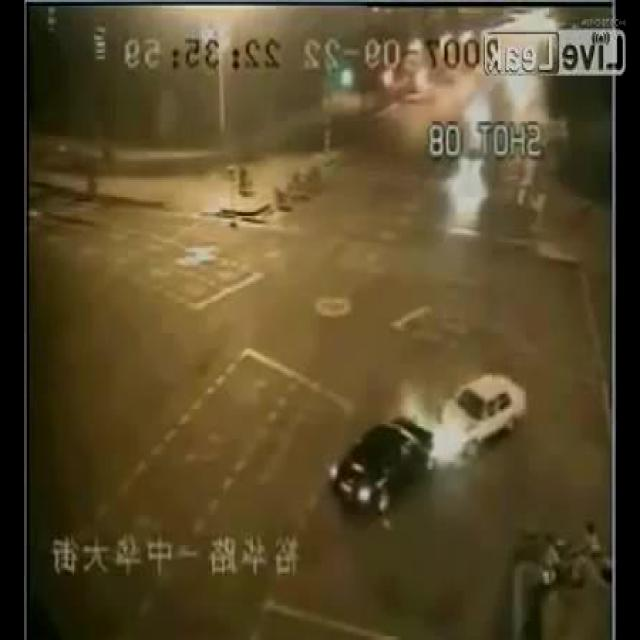accident: (326, 371, 530, 519)
